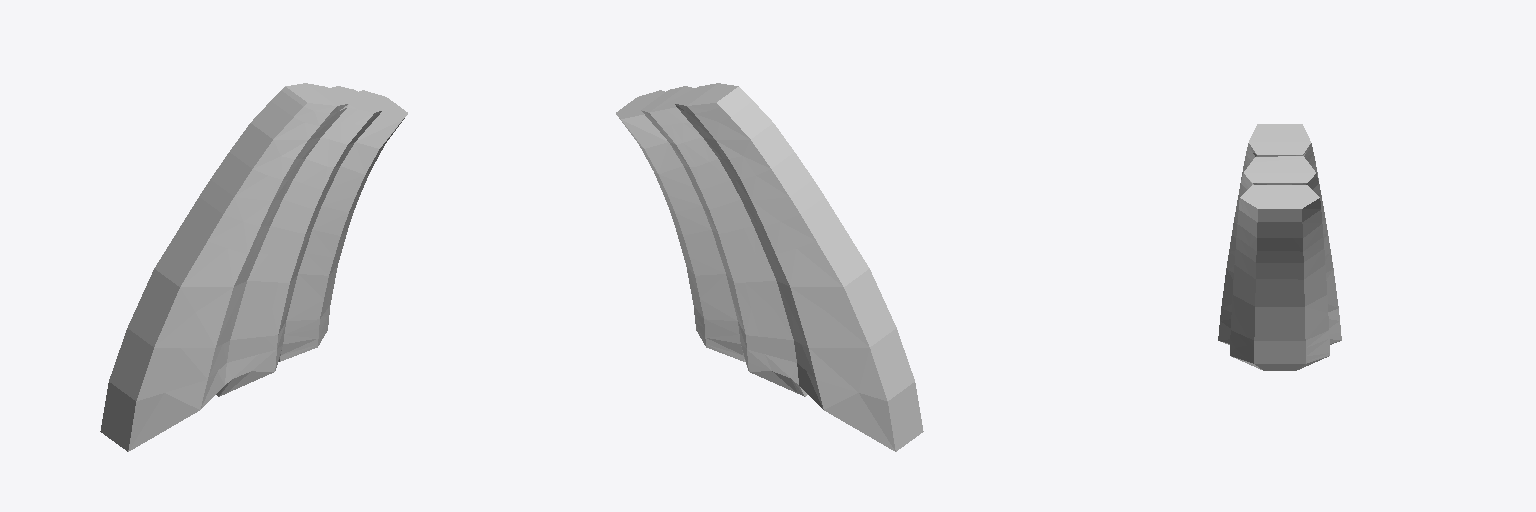
File: test sword 2.obj
3 renders of one model, left to right at view 1: azimuth 30°, elevation 25°; view 2: azimuth 150°, elevation 25°; view 3: azimuth 270°, elevation 25°, orthographic.
Visible parts, largest first — view 1: polySurface6 wings_hi; view 2: polySurface6 wings_hi; view 3: polySurface6 wings_hi.
Boxes of the visible parts, box(x1,y1,x2,y2) form: polySurface6 wings_hi: box(100, 83, 407, 451); polySurface6 wings_hi: box(616, 83, 923, 451); polySurface6 wings_hi: box(1218, 124, 1341, 370).
Size of the model in its own units: 0.9711 by 0.9919 by 0.3675.